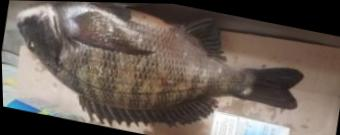fish: (15, 1, 305, 126)
